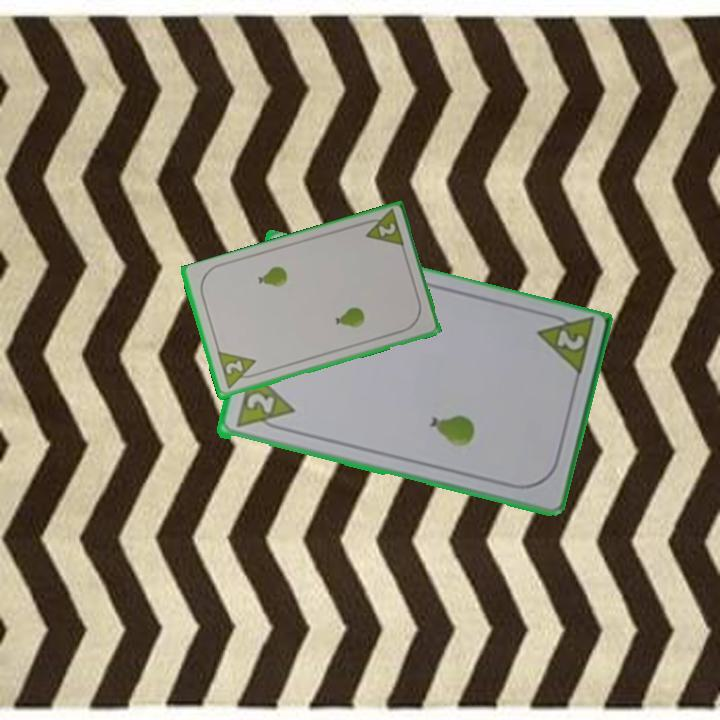2p: (357, 207, 407, 250), (242, 389, 277, 418), (553, 327, 588, 354), (221, 357, 245, 377)
